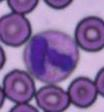N: (22, 30, 80, 83)
